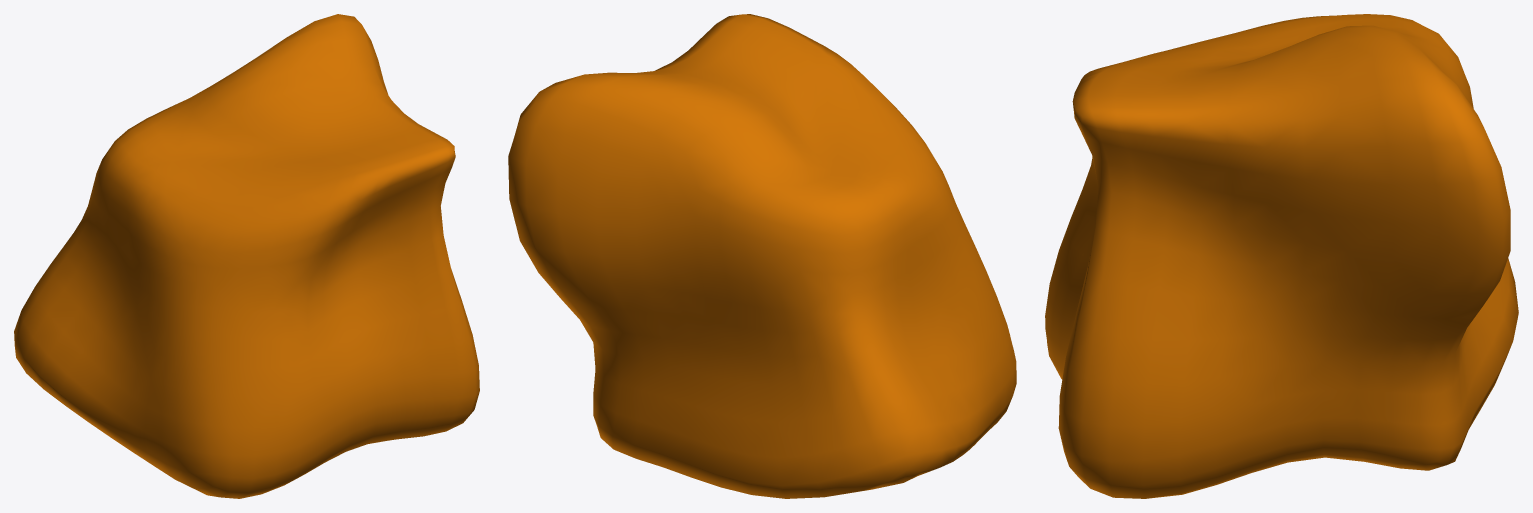
3 renders of one model, left to right at view 1: azimuth 30°, elevation 25°; view 2: azimuth 150°, elevation 25°; view 3: azimuth 270°, elevation 25°, orthographic. The views are drawn at different scales.
Parts seen in each view (by area): view 1: Cube; view 2: Cube; view 3: Cube.
Part boxes in pixels (<box>): Cube: <box>14,14,479,498</box>; Cube: <box>508,14,1016,498</box>; Cube: <box>1045,14,1518,498</box>.
Size of the model in its own units: 237 by 211 by 204.
